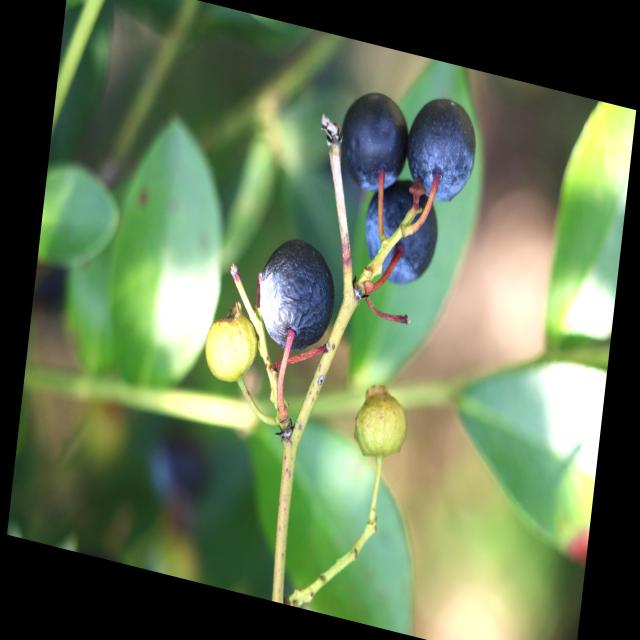blueberry: (356, 161, 452, 304), (248, 225, 344, 366), (397, 84, 486, 214), (329, 79, 419, 205)
blueberry-unripe: (348, 384, 411, 466), (202, 304, 262, 388)
